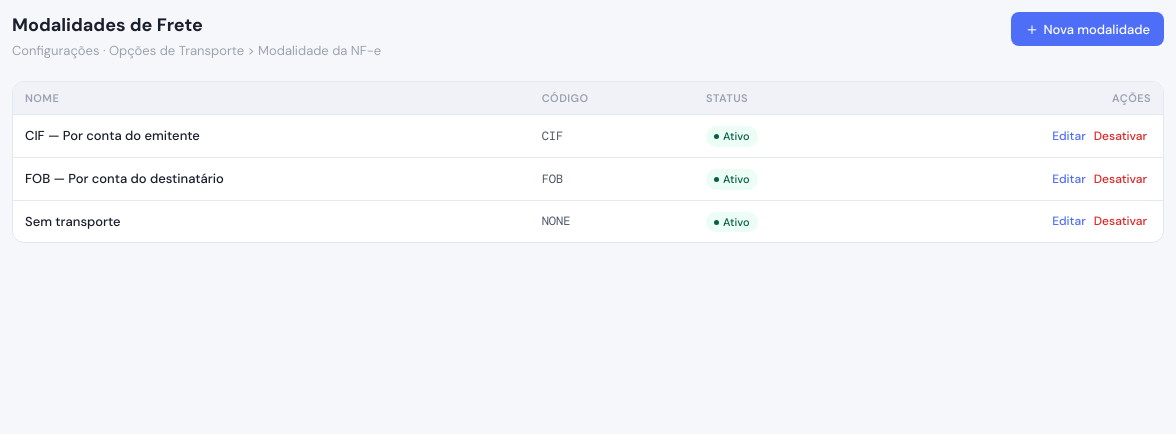
Test: TransportModalitiesComponent › edits a modality: pre-fills the form, PATCHes name, code and active, then re-reads the list
Click the button "Editar" in the row of "CIF — Por conta do emitente" at point(1069, 136), box 1048,126 -> 1090,146
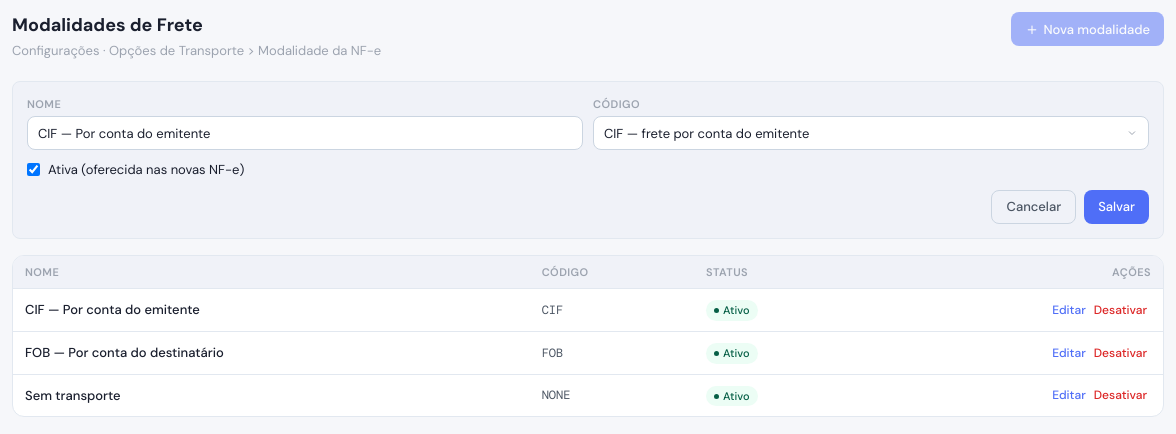
Result: the field with id "tm-name" holds "CIF — Por conta do emitente"
Result: the dropdown with id "tm-code" shows "CIF — frete por conta do emitente" at 593,116 -> 1149,150
Result: the checkbox with id "tm-active" is checked at 27,163 -> 40,176
Replace the text in the field with id "tm-name" with "CIF — frete do emitente" at point(305, 133), box 27,116 -> 583,150
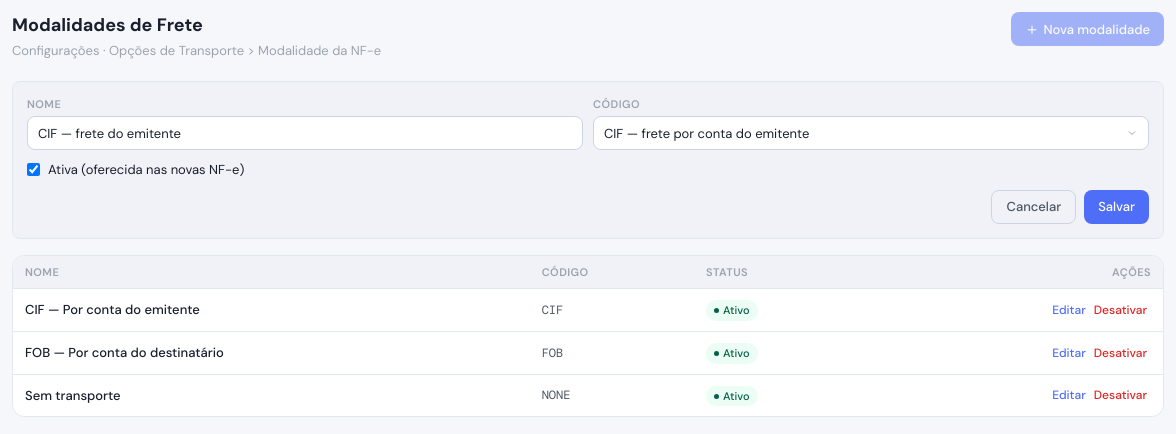
Click the submit button at point(1117, 206), box 1084,190 -> 1149,224
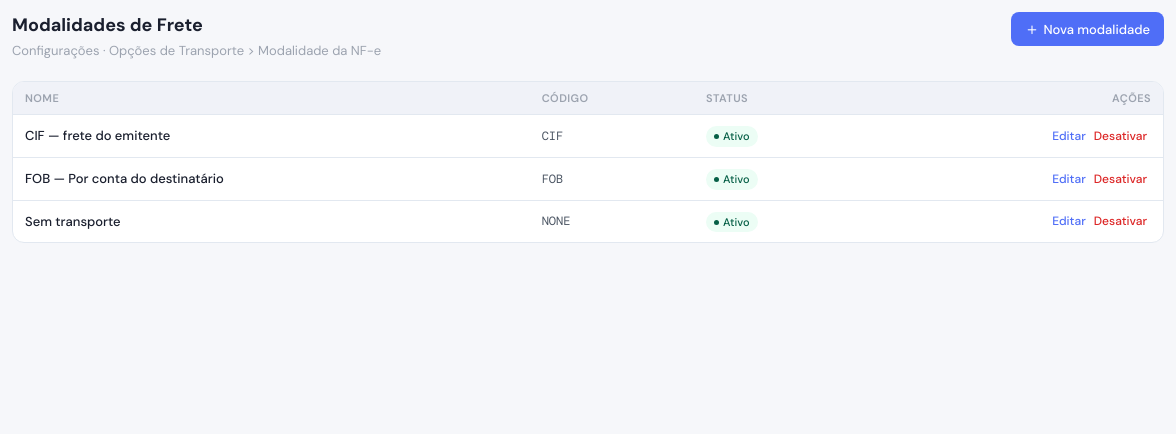
Result: the row "CIF — frete do emitente CIF Ativo Editar Desativar" is shown at 13,114 -> 1163,157
Result: the form is gone
